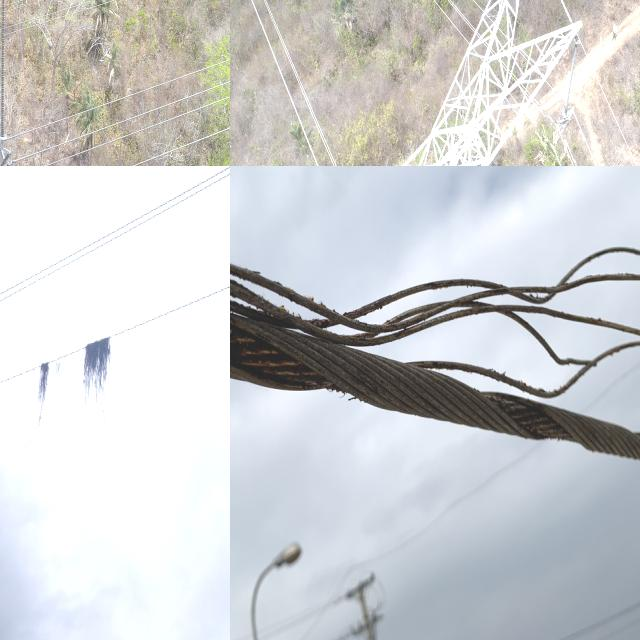杆塔: (230, 0, 592, 166)
植被遮挡: (80, 328, 114, 465), (26, 356, 52, 444)
正常绝缘子: (562, 27, 579, 150), (0, 0, 8, 144)
电缆破损: (230, 194, 640, 458)
